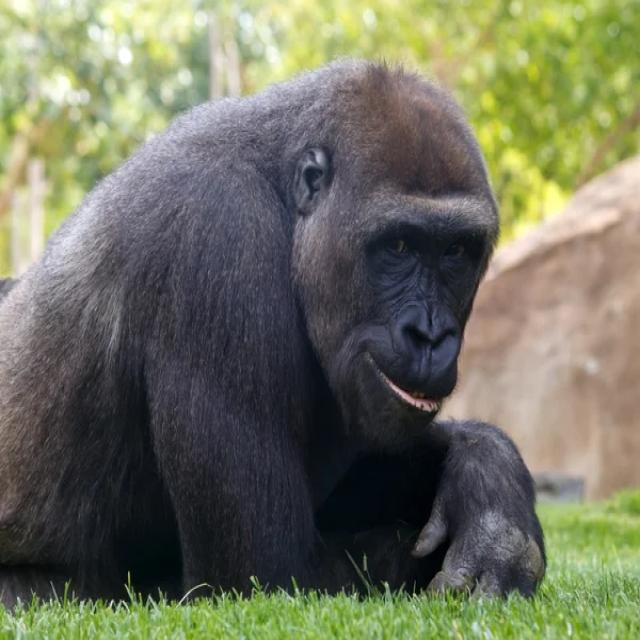gorila: (0, 54, 546, 610)
